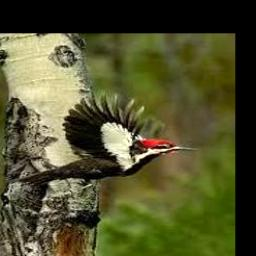Woodpecker: (11, 93, 198, 188)
